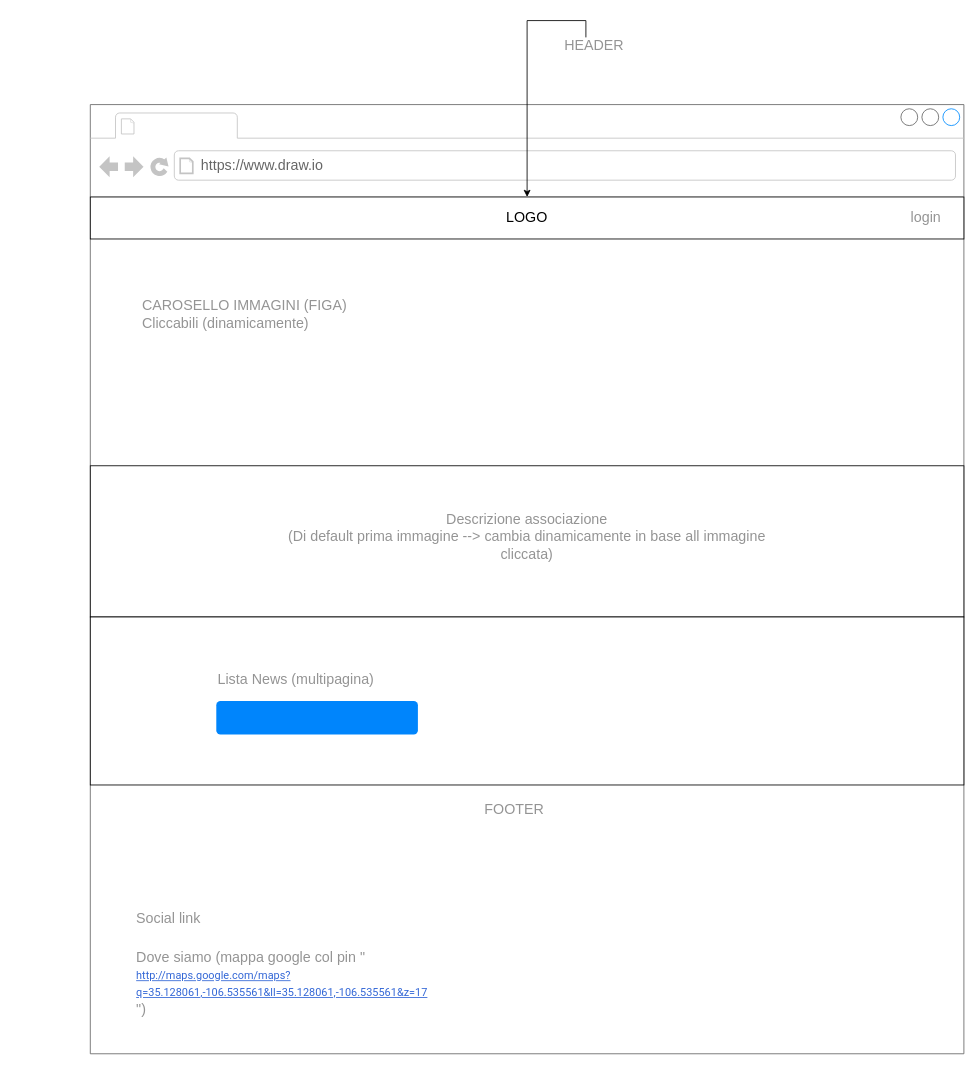
Some shapes in this 979 by 1068 pixel diagram are drawn without their labels. The shapes that lost their labels are listed below. From the top down, each one's centre as x and y in pixels, then its label:
At (x=186, y=125): "Page 1".
At (x=316, y=717): "dettaglio annuncio".
